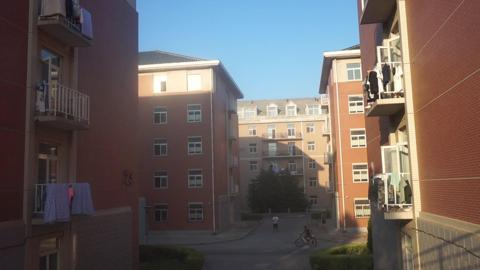UAV: (238, 147, 248, 152)
